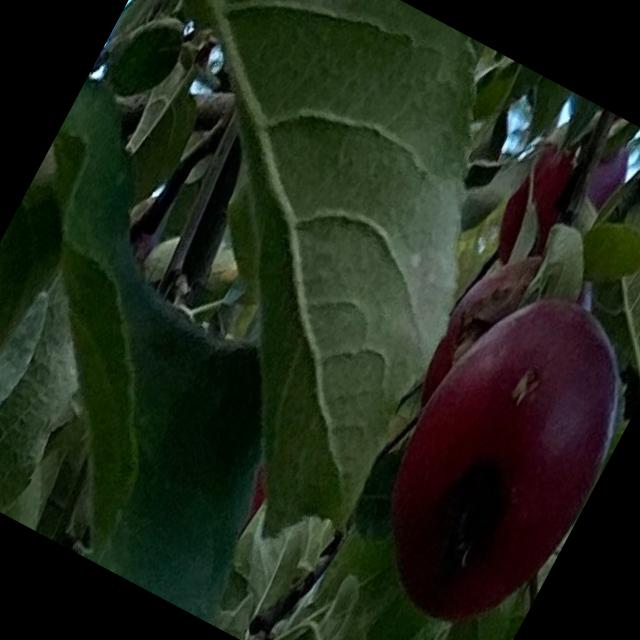Apples: (345, 266, 639, 639), (489, 109, 639, 283), (413, 231, 547, 418)
